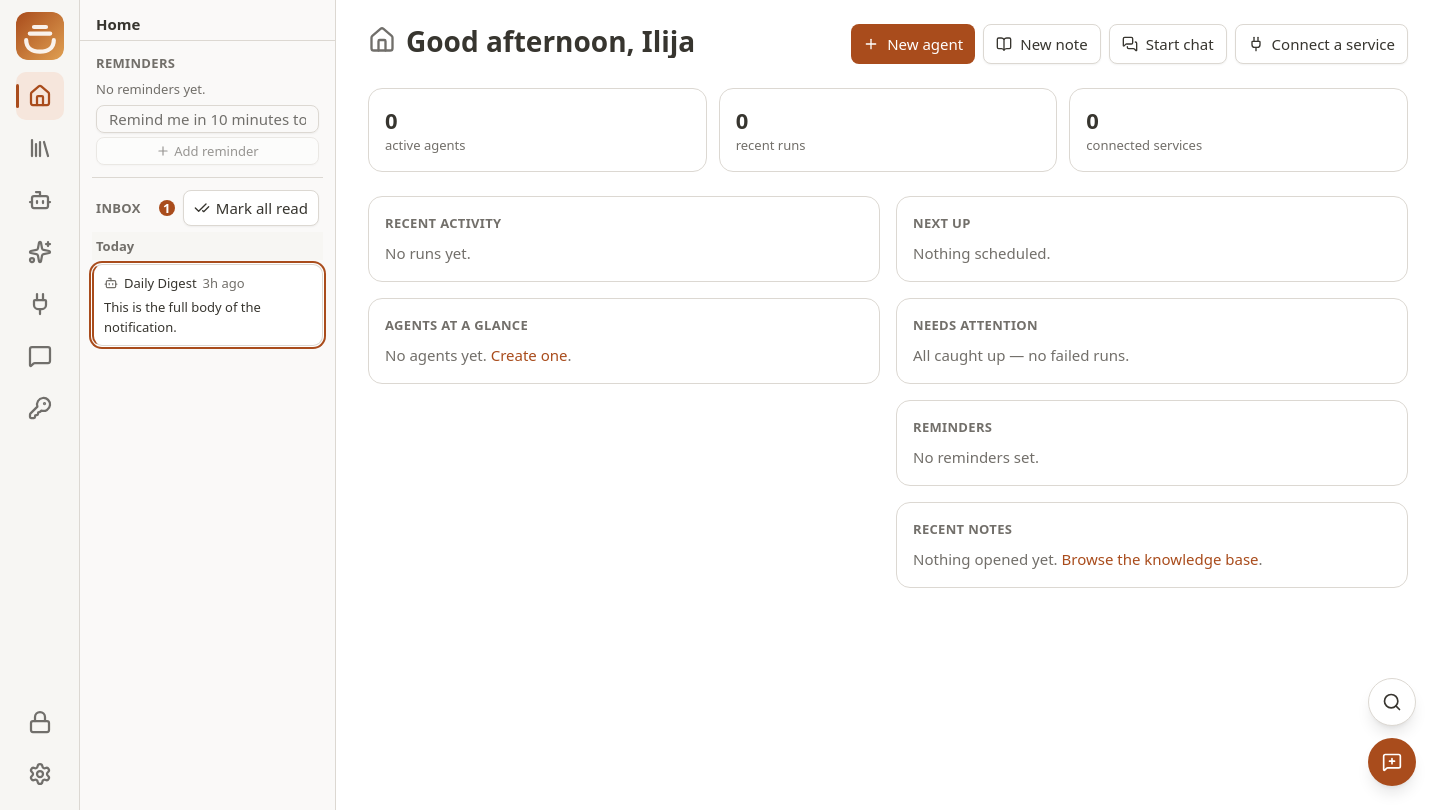
Test case: expanding reveals full body and the View agent link
Click the text "Daily Digest" at (160, 283), box [124,273,197,293]
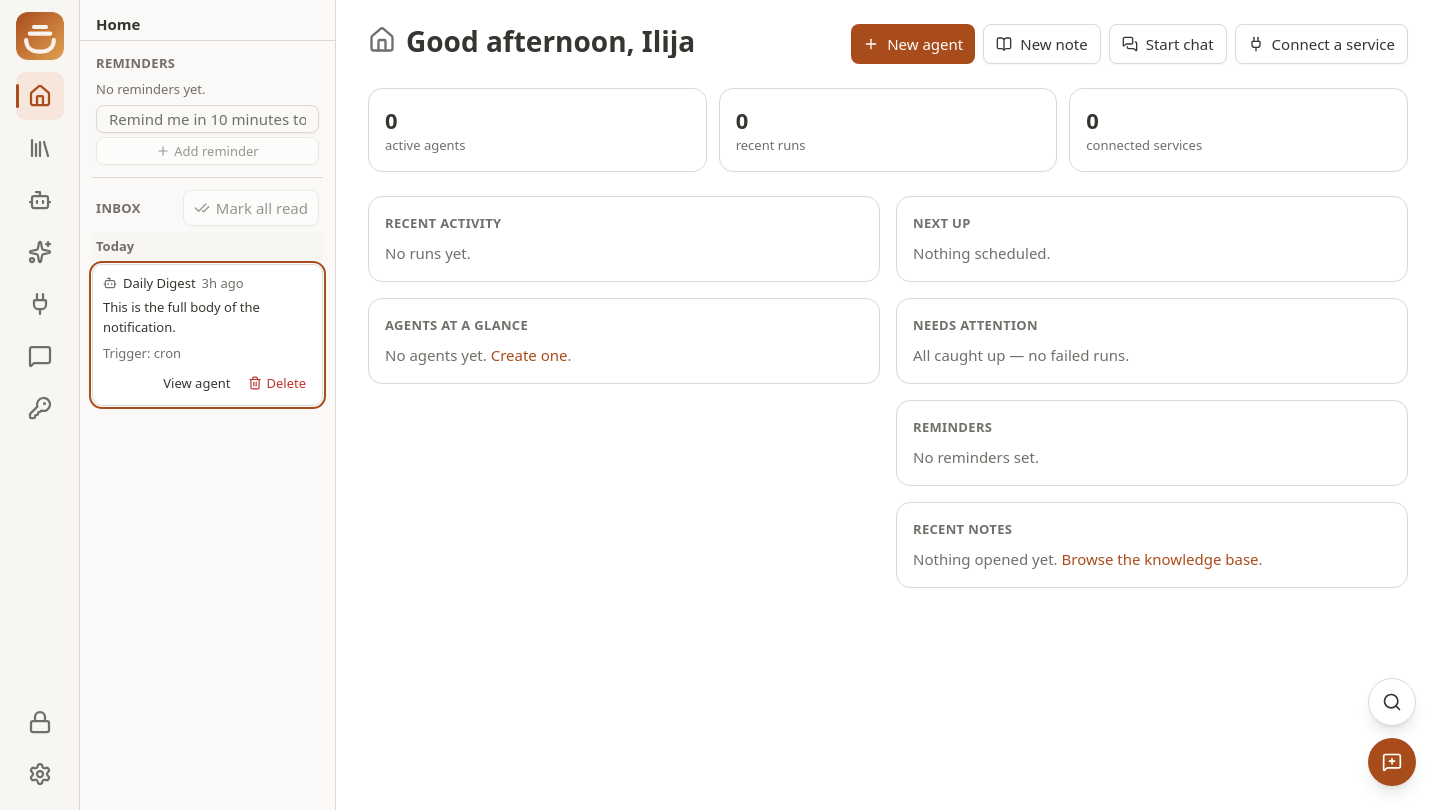
Expected: the text "This is the full body of the notification." is shown, [103,298,260,336]
Result: the text "Trigger: cron" is shown at [103,344,181,362]
